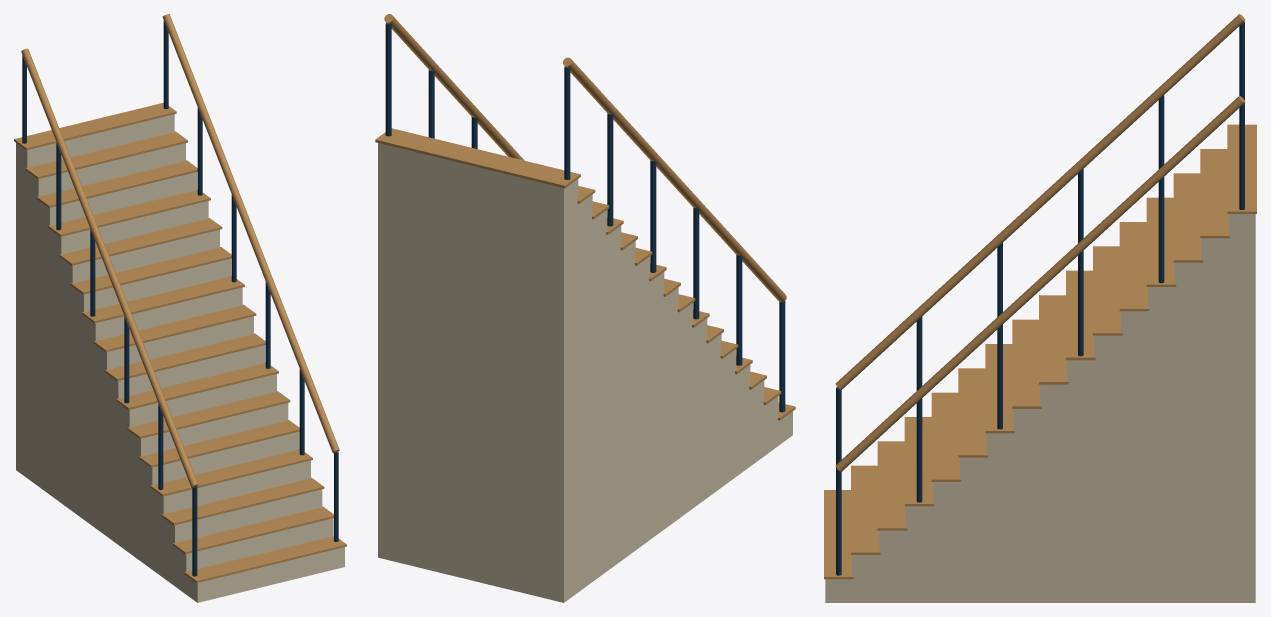
The model's file is staircase.fbx.
3 views of the same model, side by side, from view 1: azimuth 30°, elevation 25°; view 2: azimuth 150°, elevation 25°; view 3: azimuth 270°, elevation 25° (orthographic). The views are drawn at different scales.
Visible parts, largest first — view 1: staircase; view 2: staircase; view 3: staircase.
Boxes of the visible parts, bbox=[...] form: staircase: bbox=[14, 14, 346, 602]; staircase: bbox=[375, 14, 795, 602]; staircase: bbox=[824, 14, 1256, 602].
Bounding box in the file's own units: 153 × 414 × 322.
